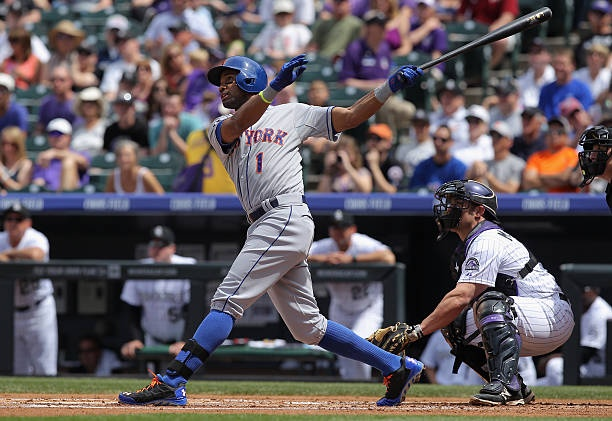bita: (412, 8, 550, 74)
